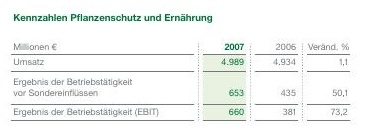table: (0, 0, 365, 131)
